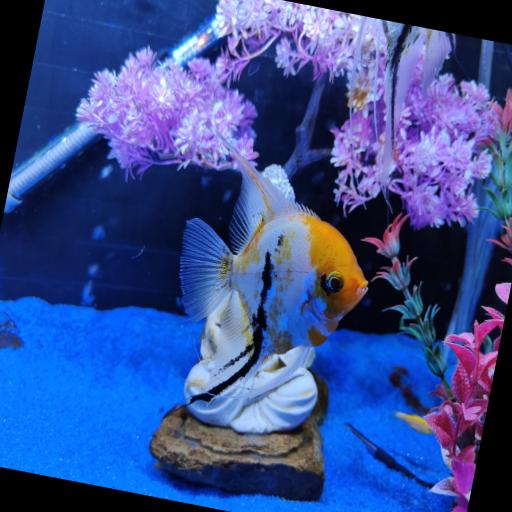Fish: (180, 141, 367, 402), (374, 19, 455, 187), (396, 412, 433, 434)
